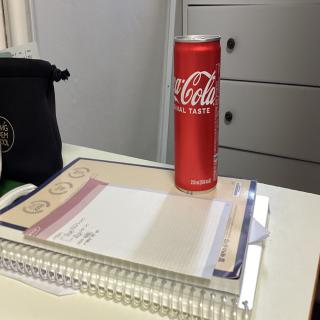cocacola: (170, 28, 224, 195)
